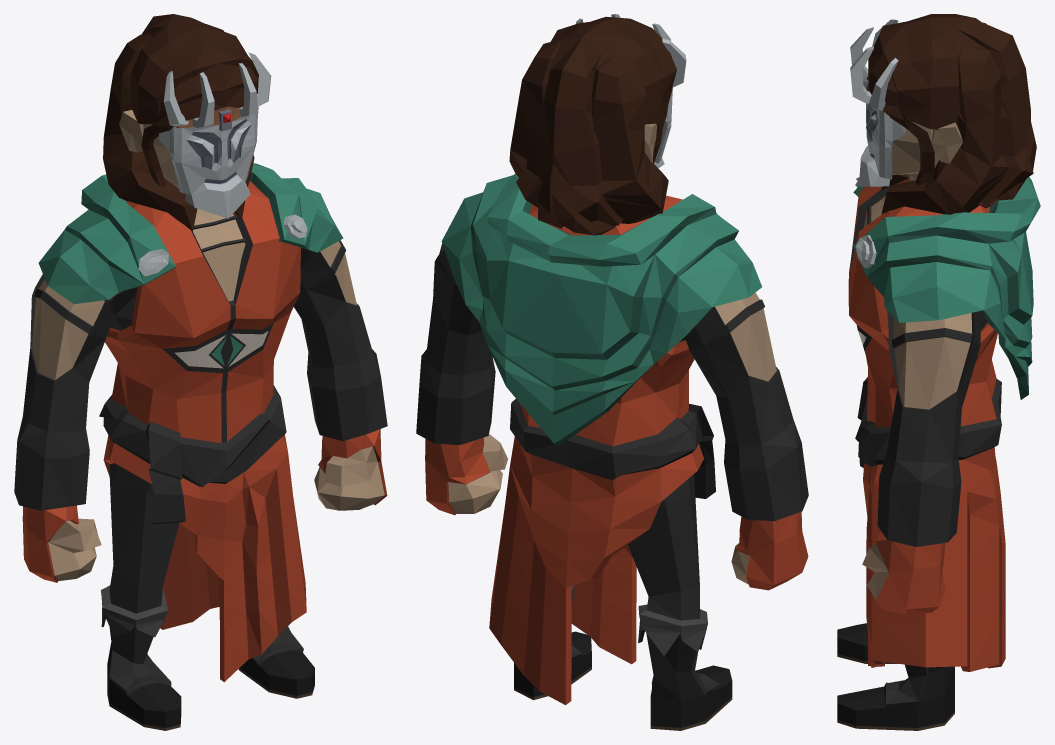
The model's file is PriestAzathulIdle.dae.
3 views of the same model, side by side, from view 1: azimuth 30°, elevation 25°; view 2: azimuth 150°, elevation 25°; view 3: azimuth 270°, elevation 25° (orthographic). The views are drawn at different scales.
Visible parts, largest first — view 1: PriestAzathul; view 2: PriestAzathul; view 3: PriestAzathul.
Boxes of the visible parts, x1,y1,x2,y2 form: PriestAzathul: (14, 14, 387, 730); PriestAzathul: (416, 14, 808, 730); PriestAzathul: (837, 14, 1040, 730).
Size of the model in its own units: 5.28 by 2.5 by 9.06.
